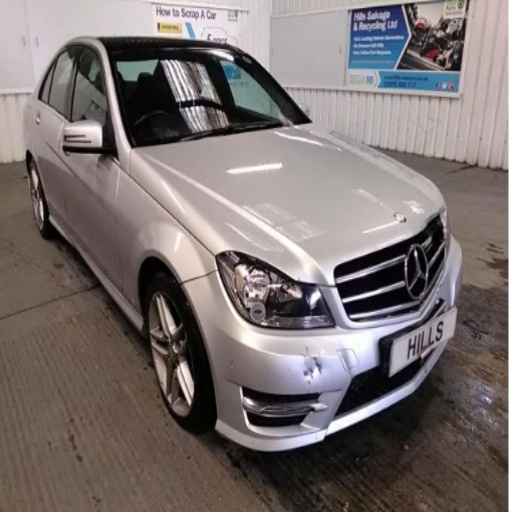dent: (300, 347, 330, 385), (427, 204, 448, 229), (337, 339, 350, 370)
scratch: (298, 345, 323, 381), (230, 358, 235, 368)
